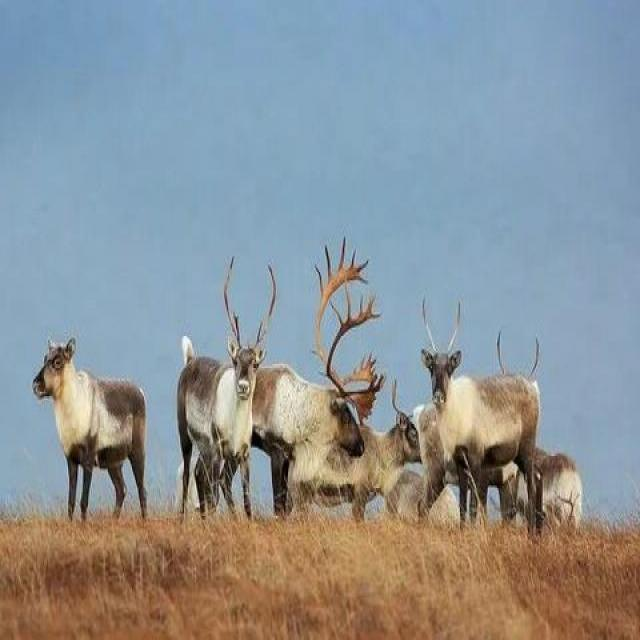deer: (210, 245, 385, 552), (152, 273, 290, 559), (26, 313, 176, 563), (408, 296, 558, 525), (264, 351, 419, 534)
